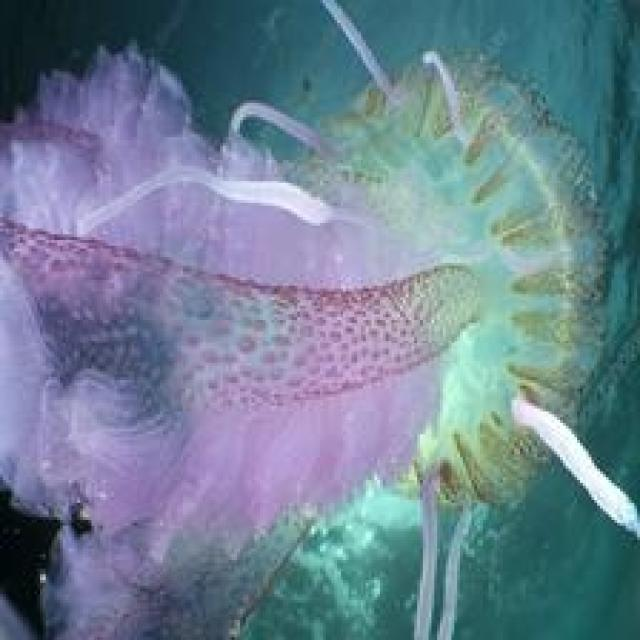Box-jellyfish: (0, 37, 640, 637)
